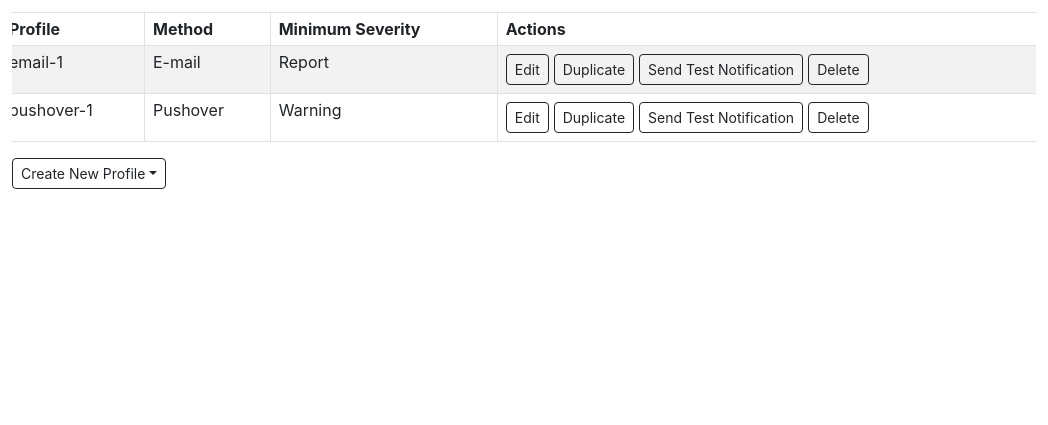
Scenario: NotificationEditor › opens editor when editing existing profile
// Click Edit button for first profile
Click the button "Edit" in the row of "email-1".
click(527, 70)  # box top-left (506, 54), bottom-right (549, 85)
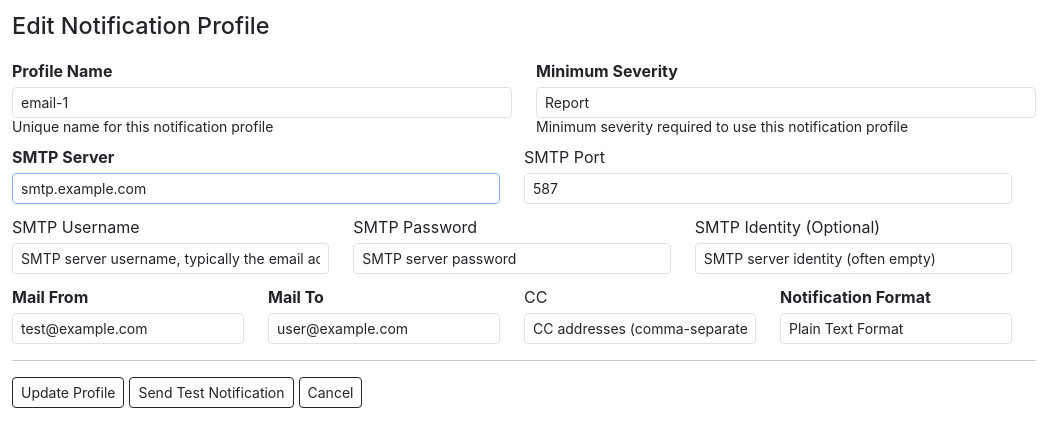
Expected: the heading "Edit Notification Profile" is shown, top-left (12, 11), bottom-right (270, 40)
Expected: the button "Update Profile" is shown, top-left (12, 377), bottom-right (124, 408)
